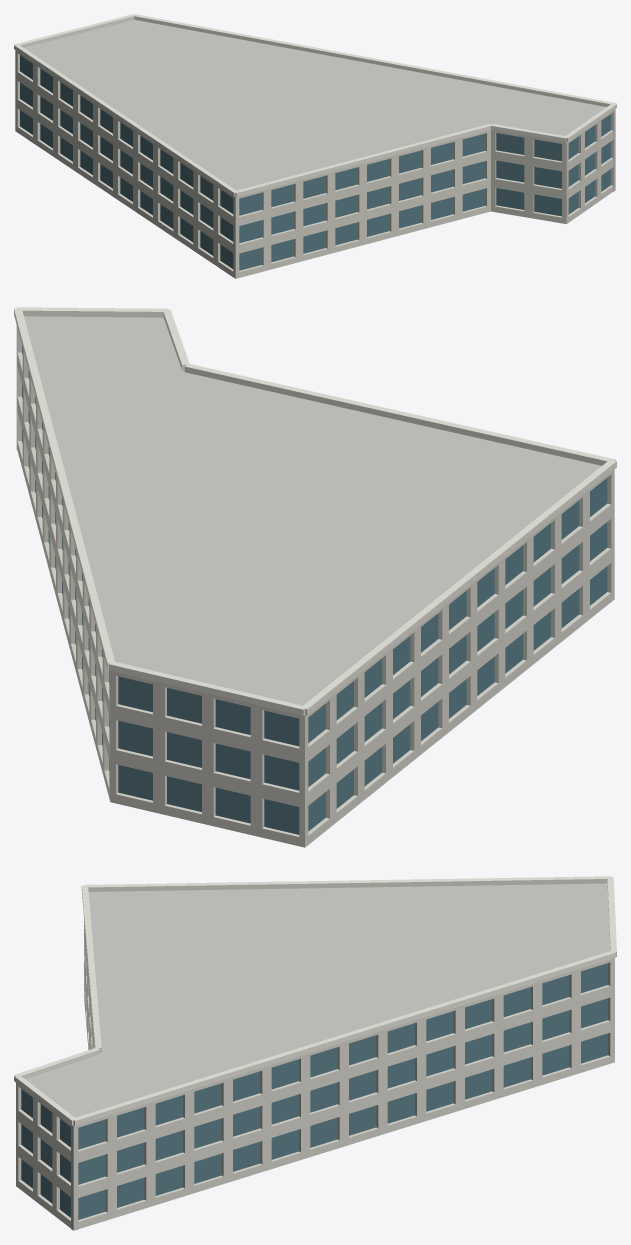
File: sb_1556523888.far.glb
3 views of the same model, one above another, from view 1: azimuth 30°, elevation 25°; view 2: azimuth 150°, elevation 25°; view 3: azimuth 270°, elevation 25° (orthographic). The views are drawn at different scales.
Visible parts, largest first — view 1: roof, wall, glass, trim; view 2: roof, wall, glass, trim; view 3: roof, wall, glass, trim.
Boxes of the visible parts, bbox=[...] form: roof: bbox=[24, 19, 606, 190]; wall: bbox=[15, 50, 615, 278]; glass: bbox=[20, 55, 610, 270]; trim: bbox=[14, 14, 616, 196]; roof: bbox=[24, 316, 601, 705]; wall: bbox=[16, 326, 614, 847]; glass: bbox=[22, 346, 607, 834]; trim: bbox=[14, 307, 616, 715]; roof: bbox=[25, 883, 610, 1117]; wall: bbox=[16, 919, 614, 1230]; glass: bbox=[21, 963, 607, 1219]; trim: bbox=[14, 876, 616, 1125].
Size of the model in its own units: 46.28 by 9.74 by 48.18.
